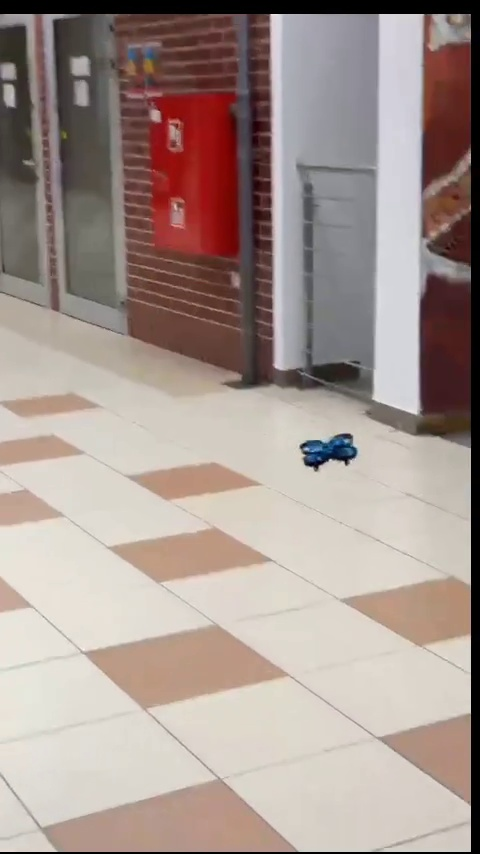drone: (301, 433, 360, 470)
